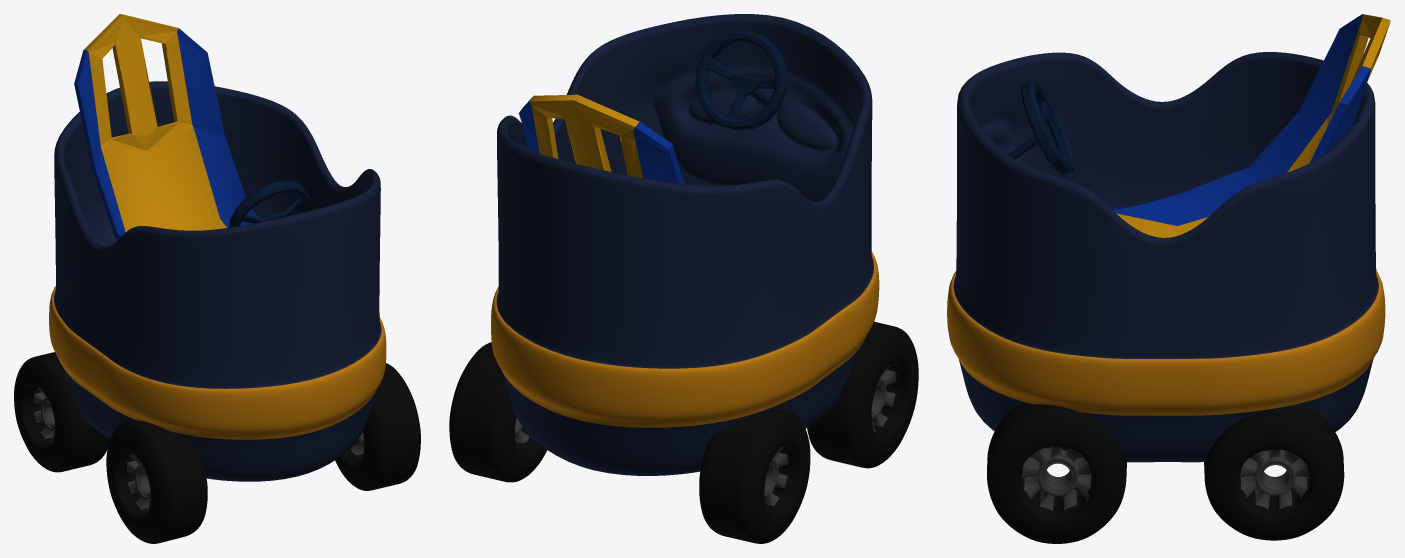
Rendered from Bucket Car.FBX.
3 renders of one model, left to right at view 1: azimuth 30°, elevation 25°; view 2: azimuth 150°, elevation 25°; view 3: azimuth 270°, elevation 25°, orthographic. The views are drawn at different scales.
Parts seen in each view (by area): view 1: Box001, Line001, Cylinder008, Cylinder010, Cylinder009, Cylinder001; view 2: Box001, Cylinder010, Cylinder008, Cylinder011, Line001, Cylinder001; view 3: Box001, Cylinder009, Cylinder011, Line001, Cylinder001.
Boxes of the visible parts, left/top/right/bottom form: Box001: left=49, top=81, right=386, bottom=481; Line001: left=74, top=14, right=257, bottom=240; Cylinder008: left=106, top=420, right=207, bottom=543; Cylinder010: left=14, top=352, right=109, bottom=472; Cylinder009: left=335, top=363, right=420, bottom=490; Cylinder001: left=229, top=181, right=308, bottom=227; Box001: left=491, top=14, right=879, bottom=475; Cylinder010: left=699, top=409, right=810, bottom=543; Cylinder008: left=807, top=321, right=918, bottom=468; Cylinder011: left=449, top=342, right=547, bottom=482; Line001: left=519, top=94, right=684, bottom=184; Cylinder001: left=695, top=30, right=788, bottom=130; Box001: left=947, top=52, right=1385, bottom=462; Cylinder009: left=987, top=404, right=1126, bottom=543; Cylinder011: left=1204, top=407, right=1344, bottom=540; Line001: left=1113, top=14, right=1390, bottom=237; Cylinder001: left=1021, top=80, right=1074, bottom=174.
Bounding box in the file's own units: 110 × 135 × 153.
